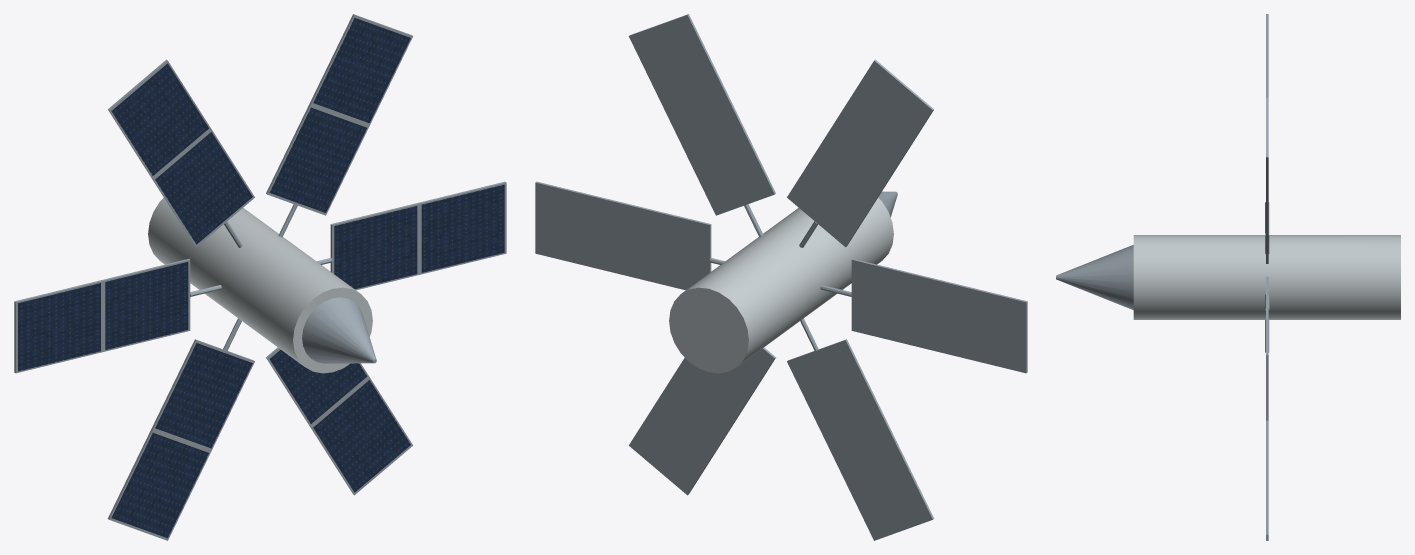
Rendered from ref-molniya-1t-22949.glb.
The picture shows the model from 3 angles, left to right: view 1: azimuth 30°, elevation 25°; view 2: azimuth 150°, elevation 25°; view 3: azimuth 270°, elevation 25°; orthographic projection. The views are drawn at different scales.
Parts seen in each view (by area): view 1: Photovoltaic laminates (×12), Spacecraft body, Array frame (×11), Conical section; view 2: Array frame (×12), Spacecraft body; view 3: Spacecraft body, Conical section.
Part boxes in pixels (x1,y1,x2,y2): Photovoltaic laminates (×12): [18, 18, 504, 538]; Spacecraft body: [148, 197, 372, 373]; Array frame (×11): [14, 14, 506, 540]; Conical section: [302, 297, 376, 363]; Array frame (×12): [535, 14, 1027, 540]; Spacecraft body: [669, 197, 893, 373]; Spacecraft body: [1133, 235, 1400, 319]; Conical section: [1056, 245, 1133, 309].
Bounding box in the file's own units: 8.6 × 8.04 × 5.68.
3 materials, 1 textured.
